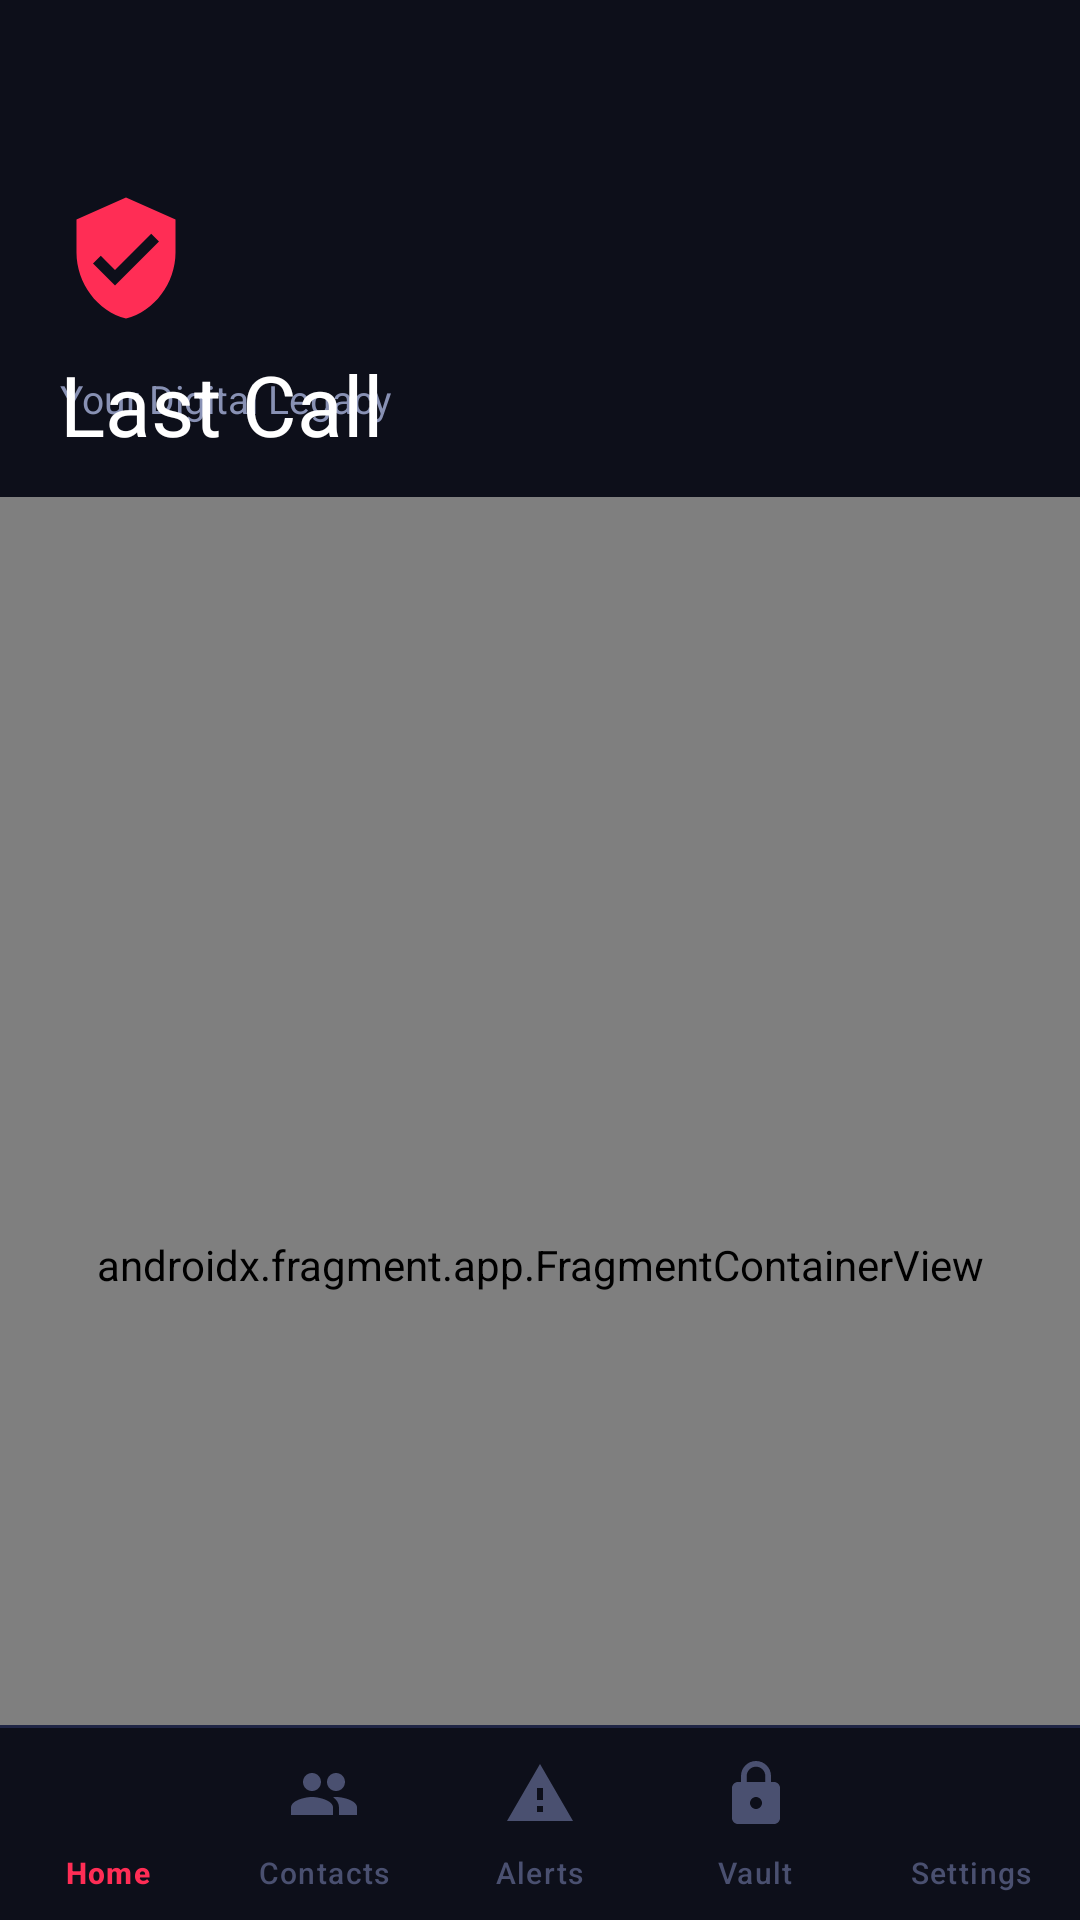

Icon bounding boxes for this 1080px x 1920px phone screenshot, format detection(x1, y1, x2, y2):
shield: detection(76, 197, 176, 319)
